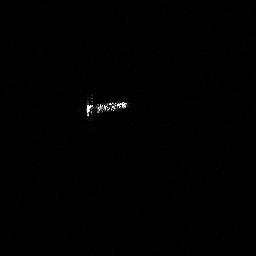ship: (86, 100, 127, 114)
